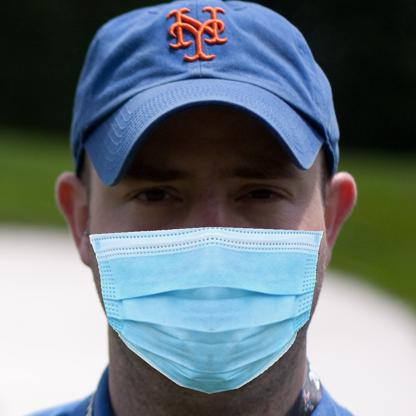mask: (85, 225, 329, 396)
